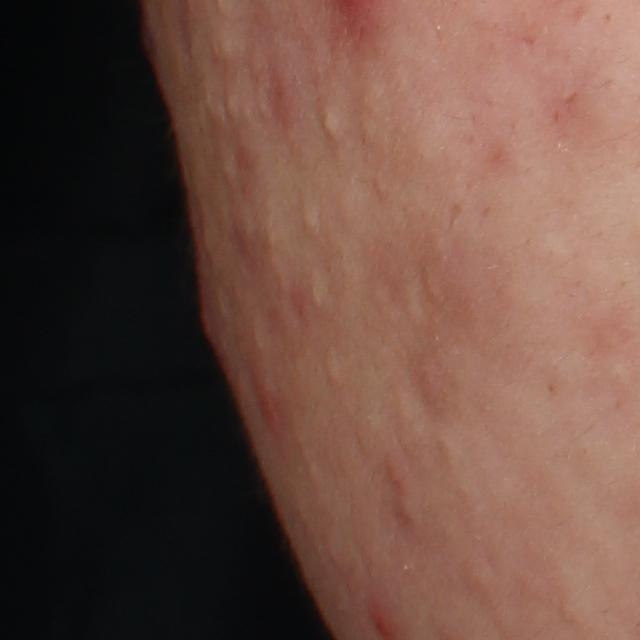comedo: (206, 29, 242, 68), (320, 348, 345, 392), (294, 200, 321, 239), (316, 111, 342, 142)
papule: (187, 290, 232, 357), (252, 367, 286, 432), (382, 457, 406, 494)
